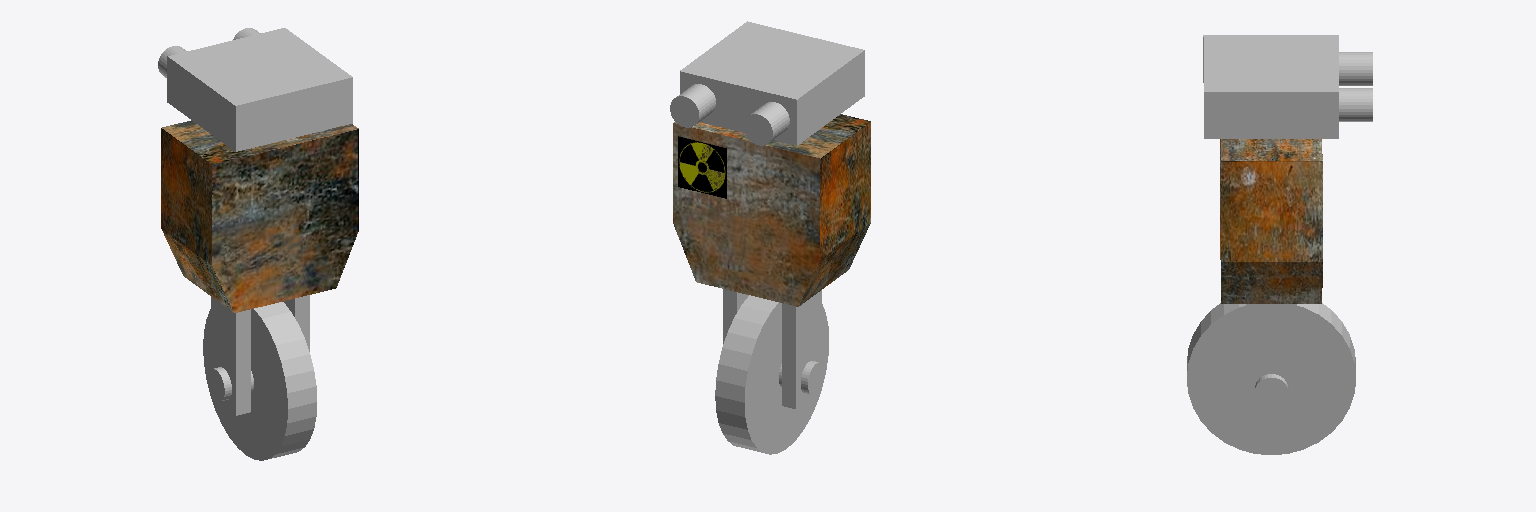
3 views of the same model, side by side, from view 1: azimuth 30°, elevation 25°; view 2: azimuth 150°, elevation 25°; view 3: azimuth 270°, elevation 25° (orthographic).
Visible parts, largest first — view 1: body_Cube, head_Cylinder.003, wheel_Cube.004; view 2: body_Cube, head_Cylinder.003, wheel_Cube.004; view 3: wheel_Cube.004, body_Cube, head_Cylinder.003.
Boxes of the visible parts, x1,y1,x2,y2 form: body_Cube: [161, 120, 358, 312]; head_Cylinder.003: [158, 28, 352, 151]; wheel_Cube.004: [203, 295, 316, 460]; body_Cube: [673, 114, 870, 306]; head_Cylinder.003: [670, 21, 864, 145]; wheel_Cube.004: [715, 289, 828, 454]; wheel_Cube.004: [1187, 303, 1355, 454]; body_Cube: [1220, 139, 1322, 303]; head_Cylinder.003: [1203, 35, 1372, 138].
Size of the model in its own units: 2 by 5 by 2.2.
Materials: 3 (1 with a texture image).